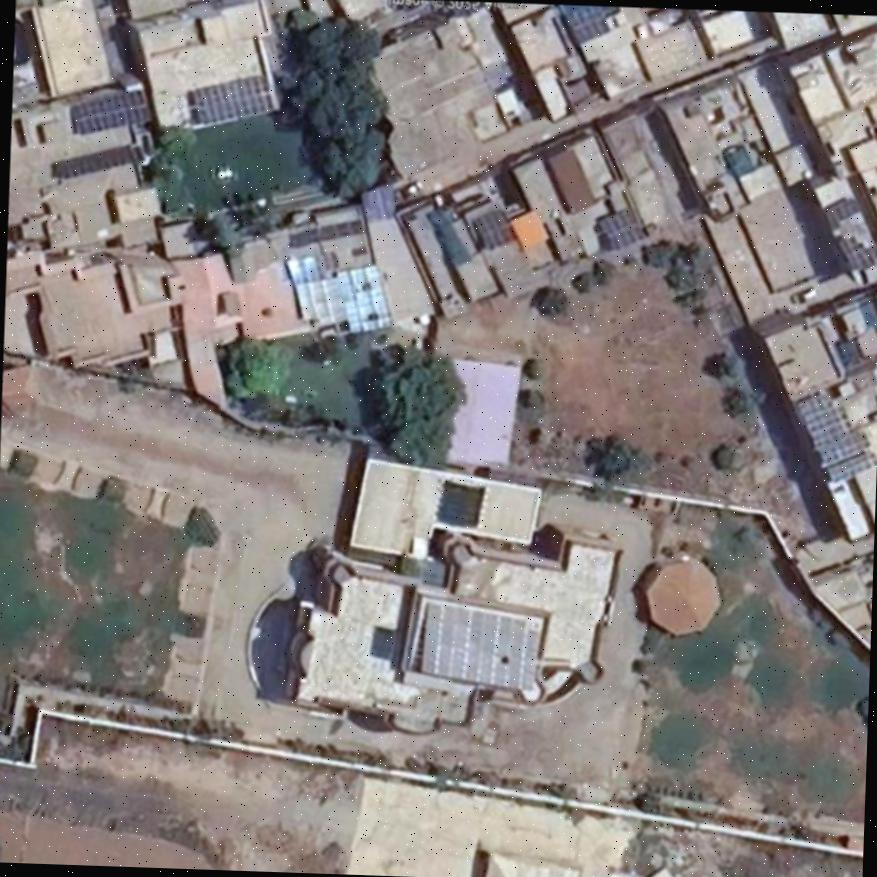Solarpanel: (420, 602, 542, 690), (795, 384, 873, 483), (192, 74, 272, 126), (339, 263, 391, 334), (70, 89, 151, 134), (291, 277, 344, 326), (598, 206, 646, 251), (560, 6, 610, 41), (473, 211, 516, 250), (286, 254, 319, 285)
